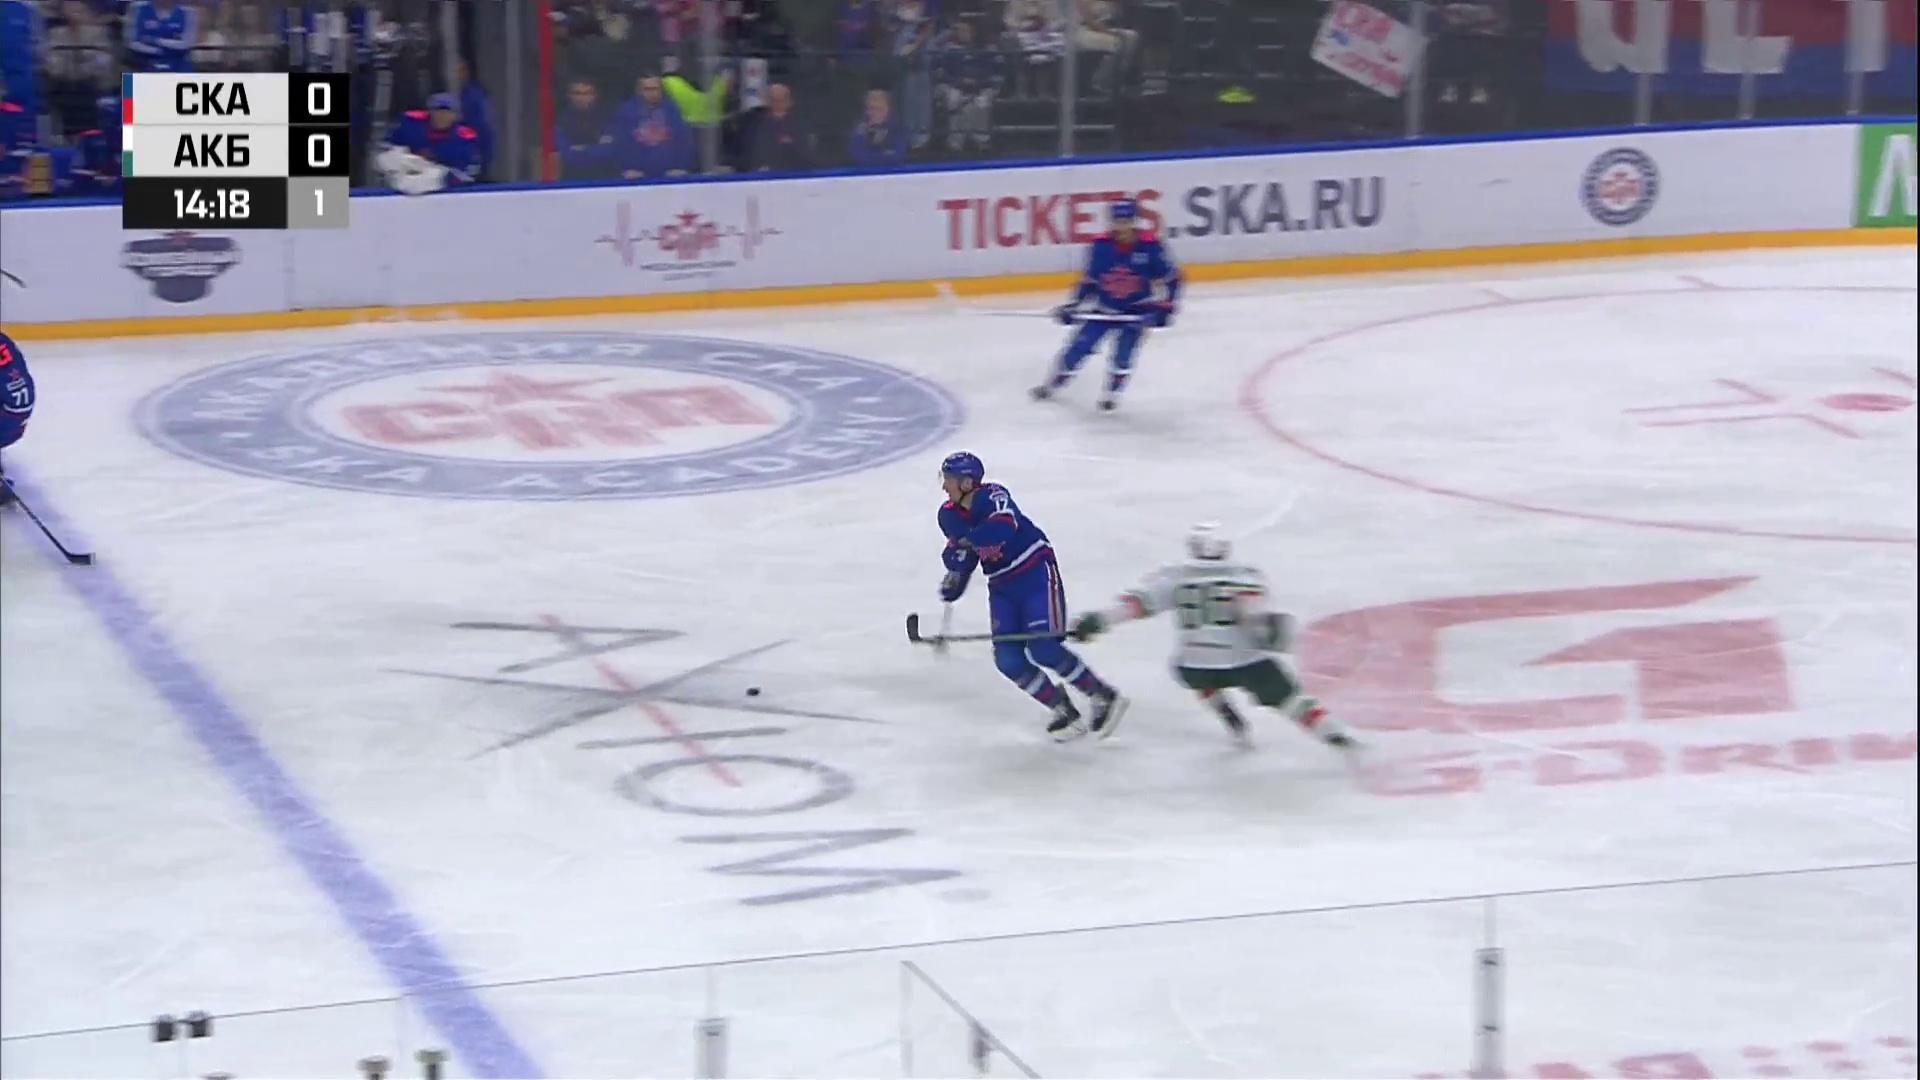ball: (745, 688, 762, 698)
